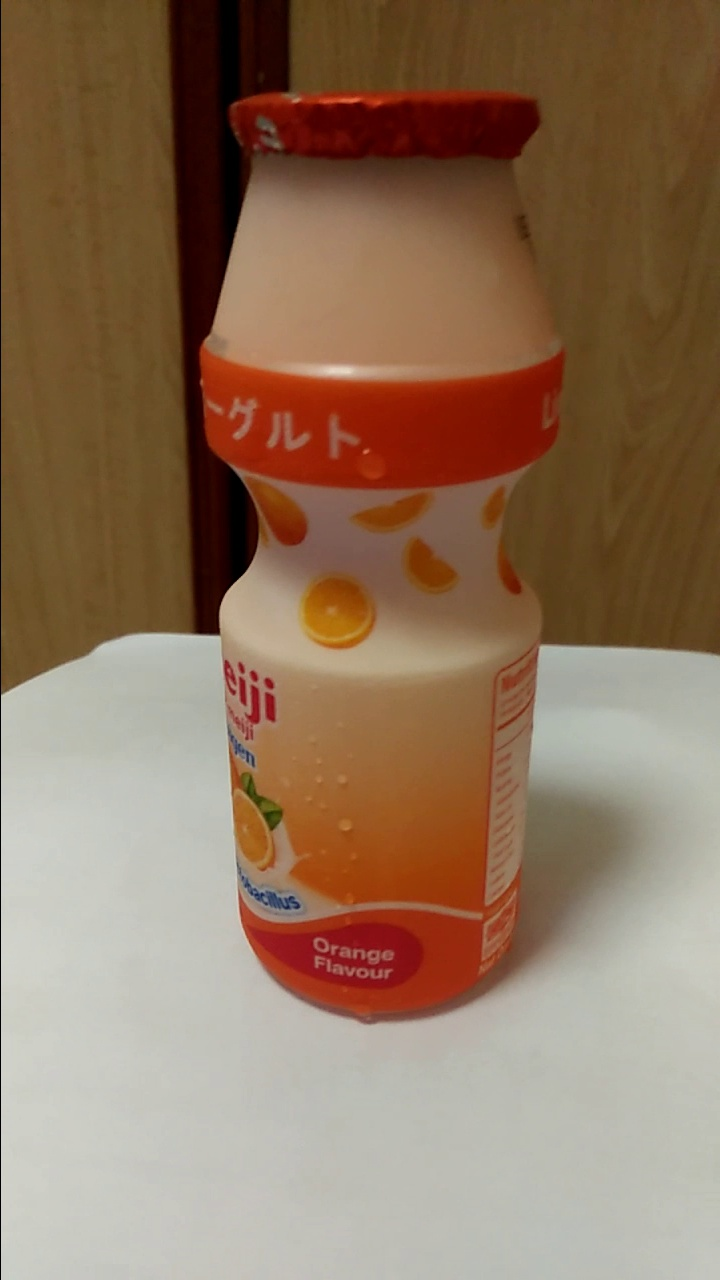milk: (221, 102, 545, 1017)
